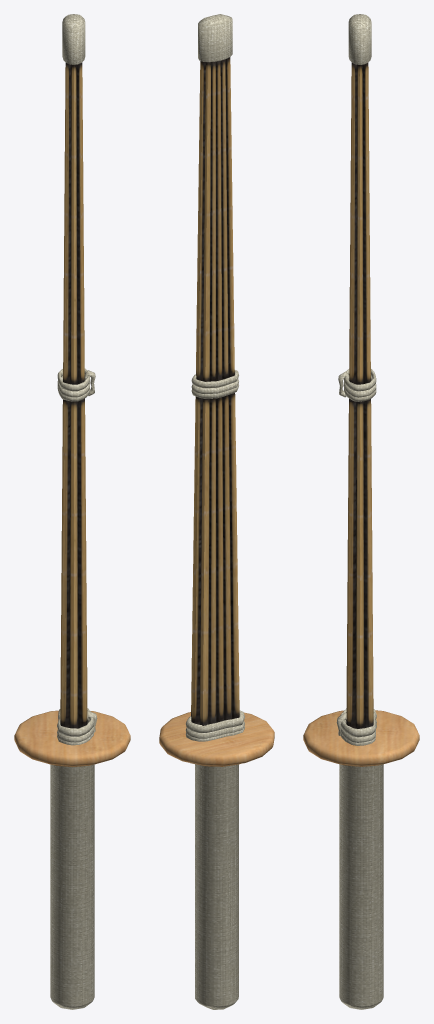
The model's file is katana.fbx.
3 views of the same model, side by side, from view 1: azimuth 90°, elevation 25°; view 2: azimuth 210°, elevation 25°; view 3: azimuth 270°, elevation 25° (orthographic).
Parts seen in each view (by area): view 1: Cylinder.039; view 2: Cylinder.039; view 3: Cylinder.039.
Part boxes in pixels (x1,y1,x2,y2): Cylinder.039: (14, 14, 130, 1009); Cylinder.039: (159, 14, 274, 1009); Cylinder.039: (303, 14, 419, 1009).
Bounding box in the file's own units: 9.36 × 87.75 × 9.36.
